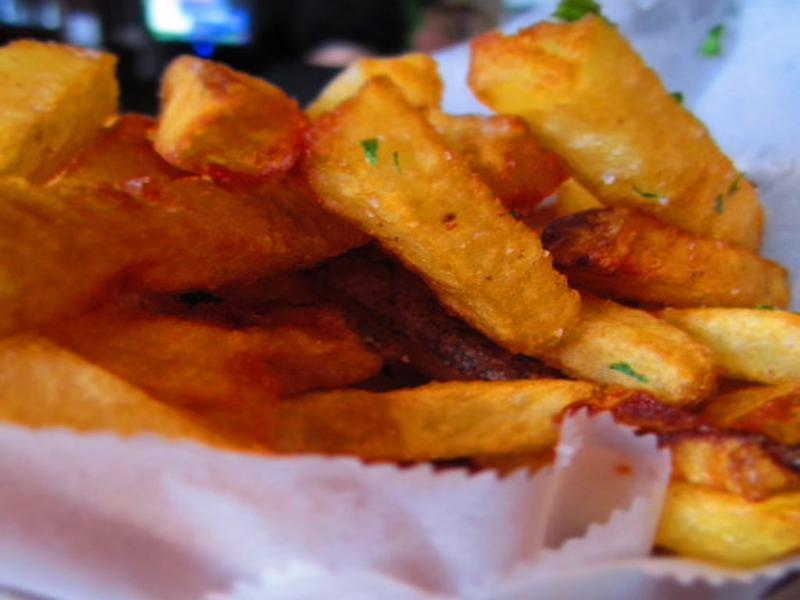french_fries: (75, 1, 800, 440)
